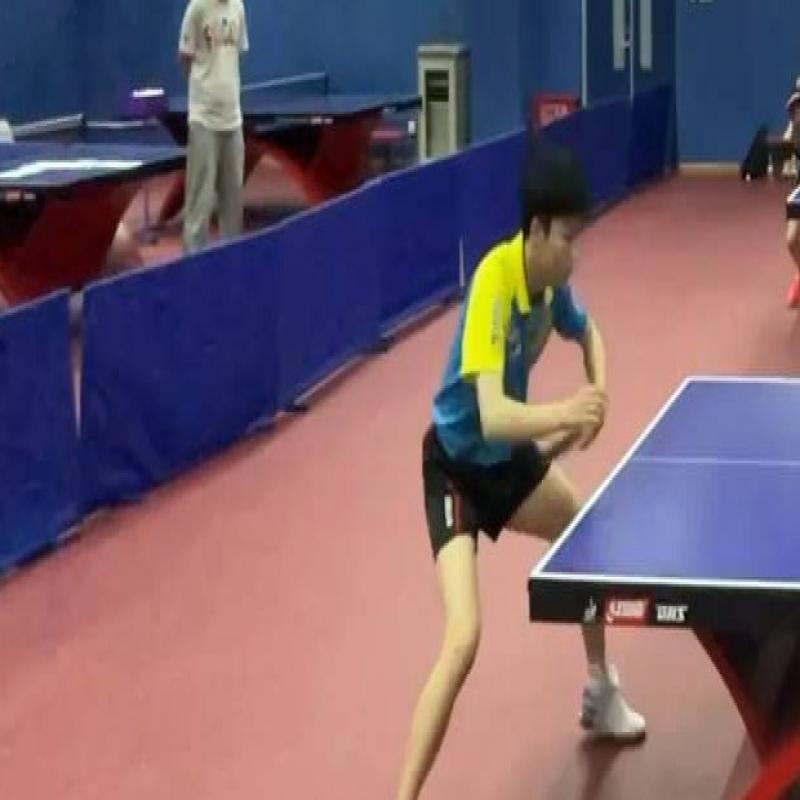bats: (537, 434, 587, 470)
